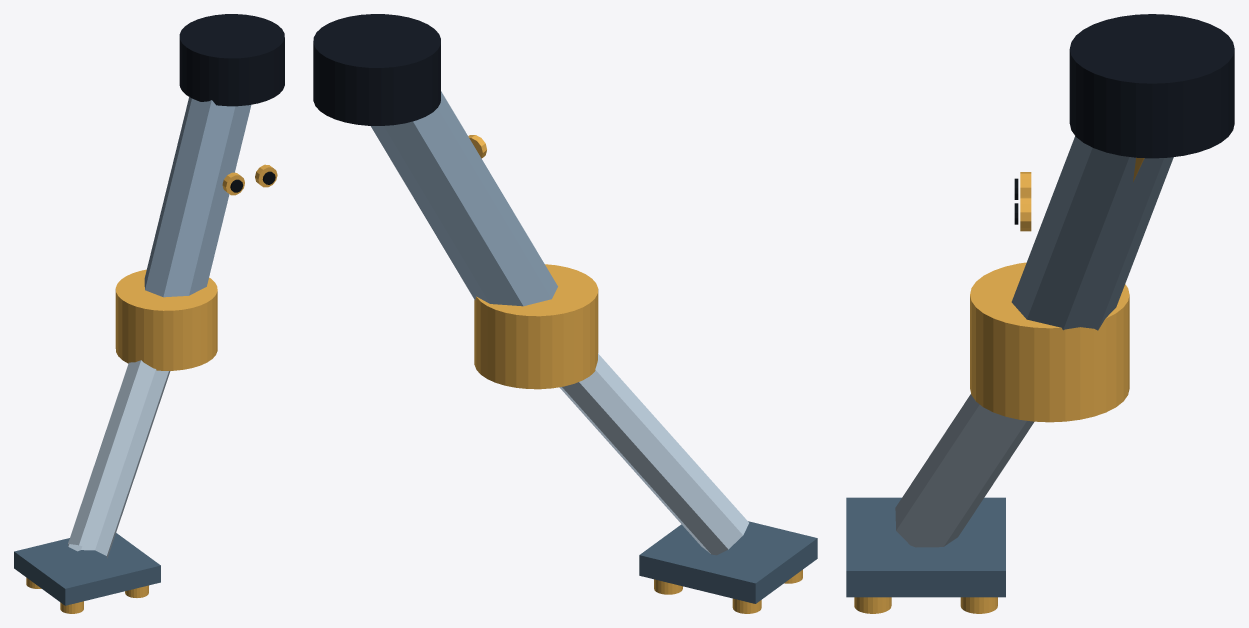
Rendered from 19_L92_ArticulatedLandingLegB.fbx.
The picture shows the model from 3 angles, left to right: view 1: azimuth 30°, elevation 25°; view 2: azimuth 150°, elevation 25°; view 3: azimuth 270°, elevation 25°; orthographic projection. The views are drawn at different scales.
Parts seen in each view (by area): view 1: L92_ArticulatedLandingLegB_Part_0000, L92_ArticulatedLandingLegB_Part_0002, L92_ArticulatedLandingLegB_Part_0004, L92_ArticulatedLandingLegB_Part_0003, L92_ArticulatedLandingLegB_Part_0005, L92_ArticulatedLandingLegB_Part_0006; view 2: L92_ArticulatedLandingLegB_Part_0000, L92_ArticulatedLandingLegB_Part_0002, L92_ArticulatedLandingLegB_Part_0004, L92_ArticulatedLandingLegB_Part_0003, L92_ArticulatedLandingLegB_Part_0005, L92_ArticulatedLandingLegB_Part_0006; view 3: L92_ArticulatedLandingLegB_Part_0002, L92_ArticulatedLandingLegB_Part_0000, L92_ArticulatedLandingLegB_Part_0003, L92_ArticulatedLandingLegB_Part_0005, L92_ArticulatedLandingLegB_Part_0004, L92_ArticulatedLandingLegB_Part_0006.
Boxes of the visible parts, box(x1,y1,x2,y2) form: L92_ArticulatedLandingLegB_Part_0000: box(144, 97, 251, 297); L92_ArticulatedLandingLegB_Part_0002: box(179, 14, 284, 106); L92_ArticulatedLandingLegB_Part_0004: box(68, 360, 170, 558); L92_ArticulatedLandingLegB_Part_0003: box(115, 269, 217, 370); L92_ArticulatedLandingLegB_Part_0005: box(14, 533, 160, 605); L92_ArticulatedLandingLegB_Part_0006: box(26, 577, 148, 613); L92_ArticulatedLandingLegB_Part_0000: box(371, 91, 557, 306); L92_ArticulatedLandingLegB_Part_0002: box(313, 14, 440, 125); L92_ArticulatedLandingLegB_Part_0004: box(559, 353, 748, 555); L92_ArticulatedLandingLegB_Part_0003: box(474, 264, 598, 389); L92_ArticulatedLandingLegB_Part_0005: box(639, 521, 817, 603); L92_ArticulatedLandingLegB_Part_0006: box(654, 570, 802, 613); L92_ArticulatedLandingLegB_Part_0002: box(1069, 14, 1234, 158); L92_ArticulatedLandingLegB_Part_0000: box(1011, 136, 1173, 330); L92_ArticulatedLandingLegB_Part_0003: box(970, 262, 1129, 422); L92_ArticulatedLandingLegB_Part_0005: box(846, 497, 1005, 597); L92_ArticulatedLandingLegB_Part_0004: box(895, 394, 1034, 547); L92_ArticulatedLandingLegB_Part_0006: box(854, 597, 997, 613).
Bounding box in the file's own units: 211 × 290 × 146.
